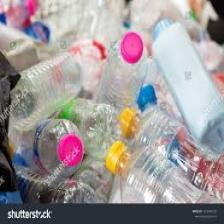plastic: (103, 134, 219, 208), (9, 41, 86, 132), (22, 119, 90, 182), (101, 26, 146, 111)
